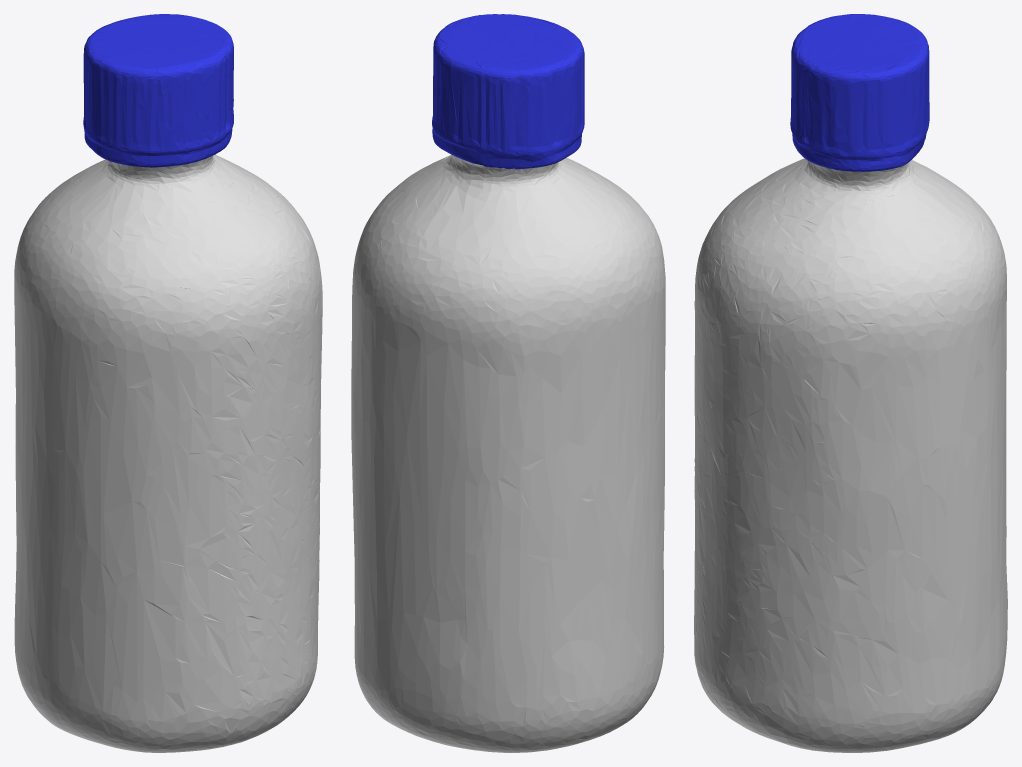
The model's file is plastic bottle.glb.
3 views of the same model, side by side, from view 1: azimuth 30°, elevation 25°; view 2: azimuth 150°, elevation 25°; view 3: azimuth 270°, elevation 25° (orthographic).
Visible parts, largest first — view 1: geometry_0; view 2: geometry_0; view 3: geometry_0.
Boxes of the visible parts, bbox=[...] form: geometry_0: bbox=[14, 14, 322, 752]; geometry_0: bbox=[351, 14, 665, 752]; geometry_0: bbox=[694, 14, 1007, 752].
Size of the model in its own units: 0.7418 by 1.75 by 0.7587.
